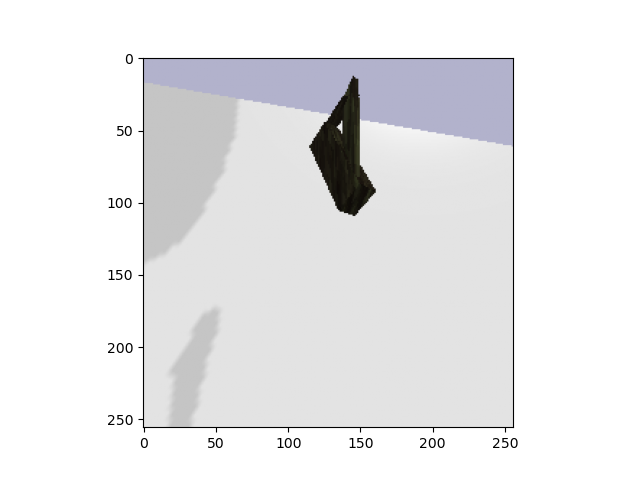v249b387_109: (299, 73, 388, 218)
